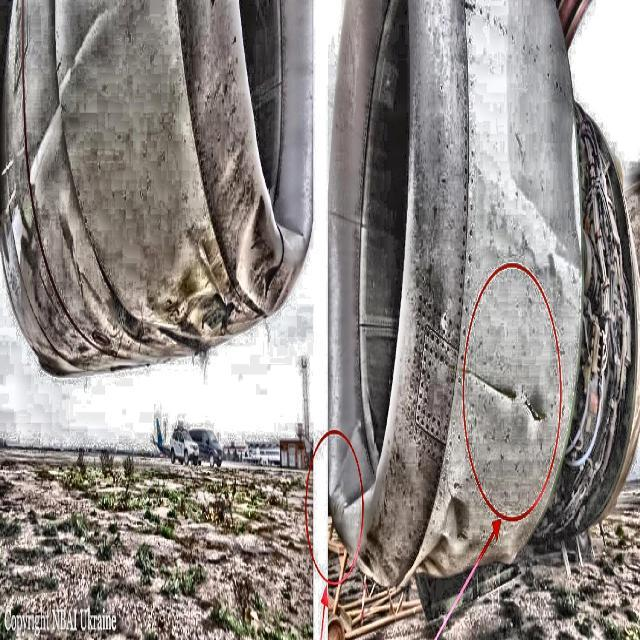crack: (525, 392, 547, 425)
dent: (421, 491, 472, 588)
